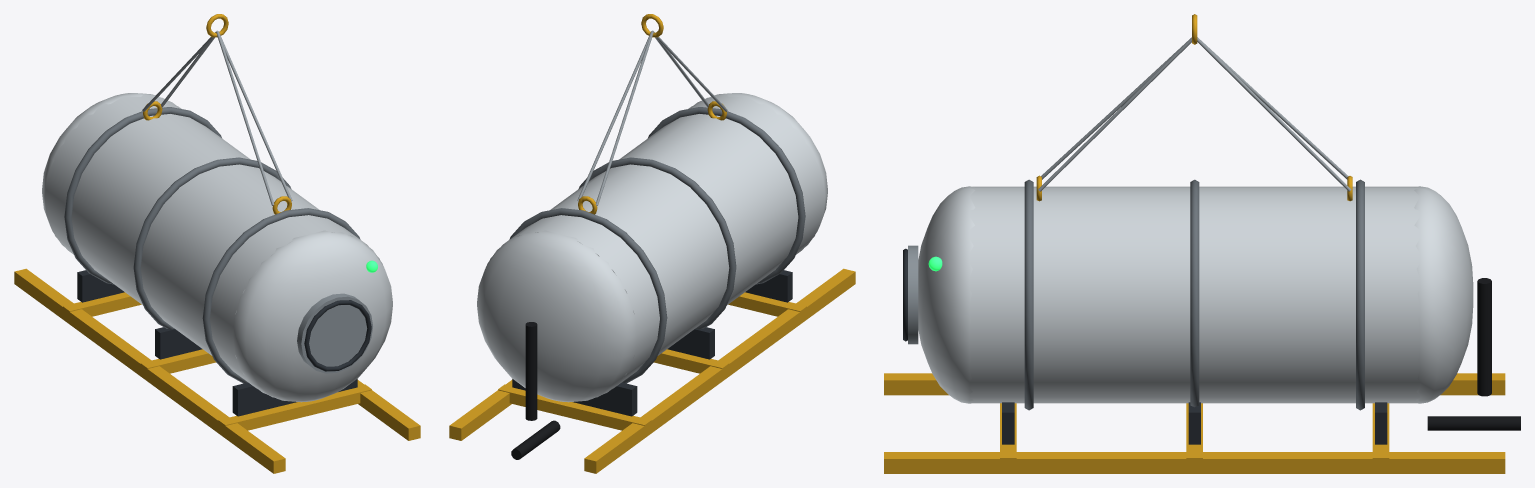
Rendered from equipment--oceanDataPod.glb.
The picture shows the model from 3 angles, left to right: view 1: azimuth 30°, elevation 25°; view 2: azimuth 150°, elevation 25°; view 3: azimuth 270°, elevation 25°; orthographic projection. The views are drawn at different scales.
Parts seen in each view (by area): view 1: pod, frame, hatch, bridle, hatchBolts; view 2: pod, frame, bridle, cable; view 3: pod, frame, bridle, cable, hatch.
Part boxes in pixels (bbox=[...]): pod: bbox=[42, 93, 392, 402]; frame: bbox=[14, 268, 420, 473]; hatch: bbox=[297, 293, 372, 373]; bridle: bbox=[142, 30, 292, 214]; hatchBolts: bbox=[304, 300, 371, 371]; pod: bbox=[477, 93, 827, 402]; frame: bbox=[449, 268, 855, 473]; bridle: bbox=[577, 30, 727, 214]; cable: bbox=[511, 322, 560, 459]; pod: bbox=[918, 179, 1473, 410]; frame: bbox=[884, 373, 1505, 473]; bridle: bbox=[1036, 37, 1352, 201]; cable: bbox=[1427, 278, 1520, 430]; hatch: bbox=[908, 245, 918, 344].
Size of the model in its own units: 2.24 by 4.43 by 6.15.
